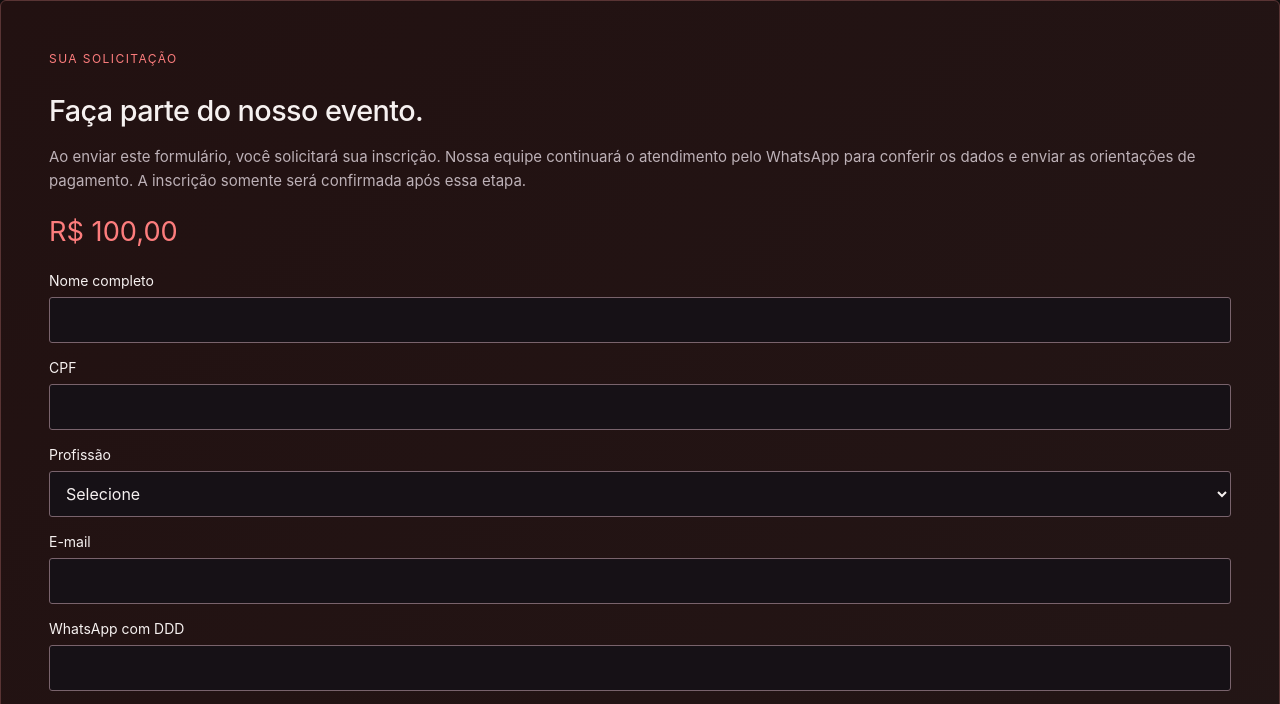
Test case: shows required academic fields and the fixed student price
Select "Estudante" in the dropdown labelled "Profissão" at (640,494), box [49,471,1231,517]
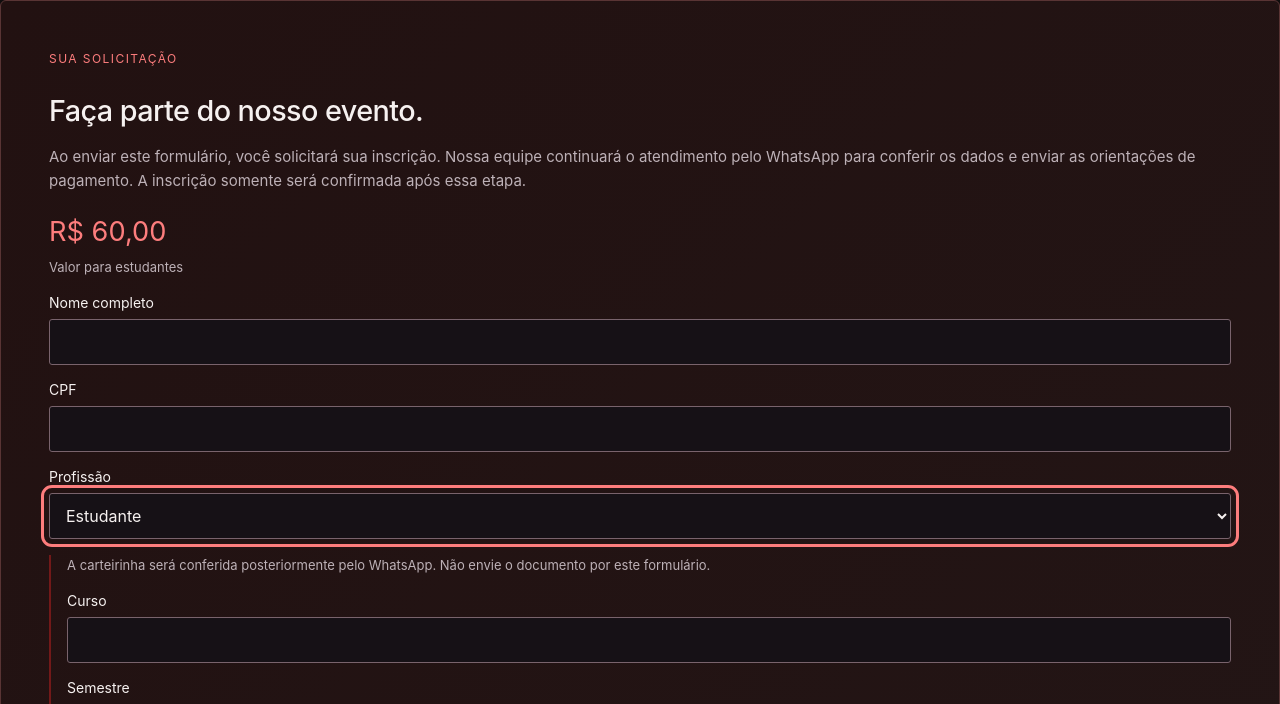
Expected: the text "R$ 60,00 Valor para estudantes" is shown, [49,215,183,275]
Expected: the text "Valor para estudantes" is shown, [49,259,183,275]
Select "Médico" in the dropdown labelled "Profissão" at (640,516), box [49,493,1231,539]
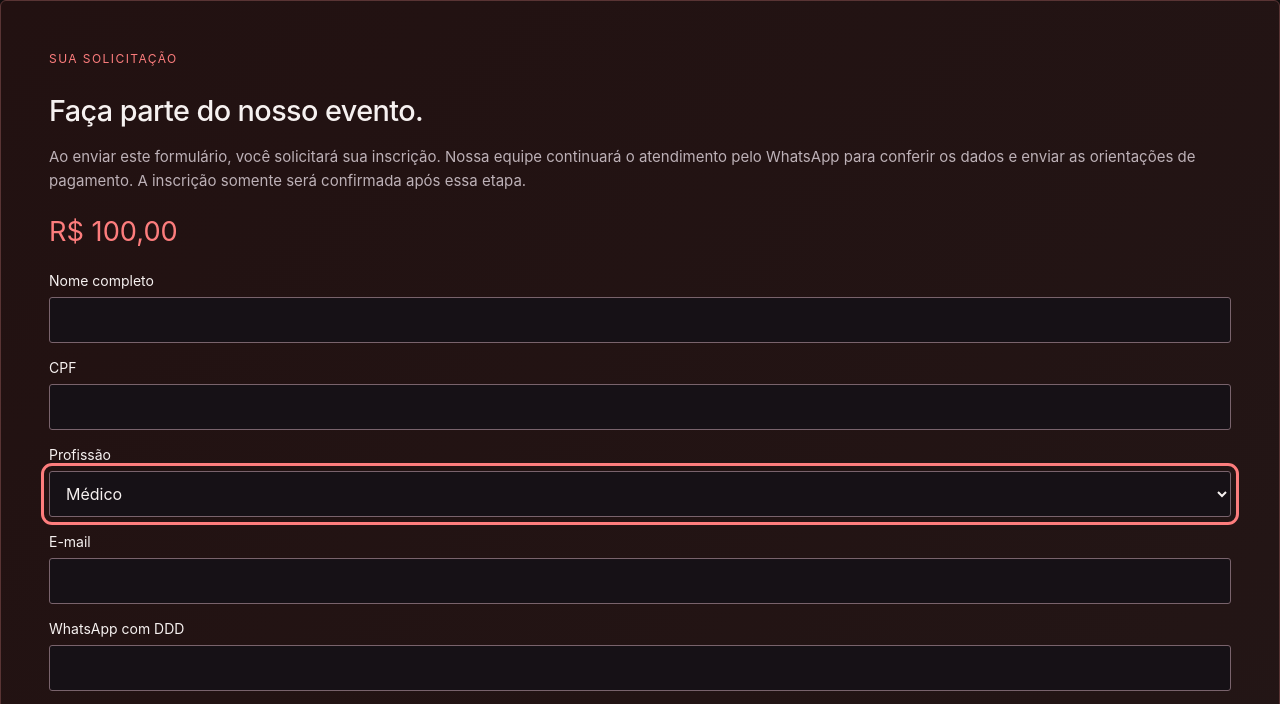
Expected: the label labelled "Curso" is gone
